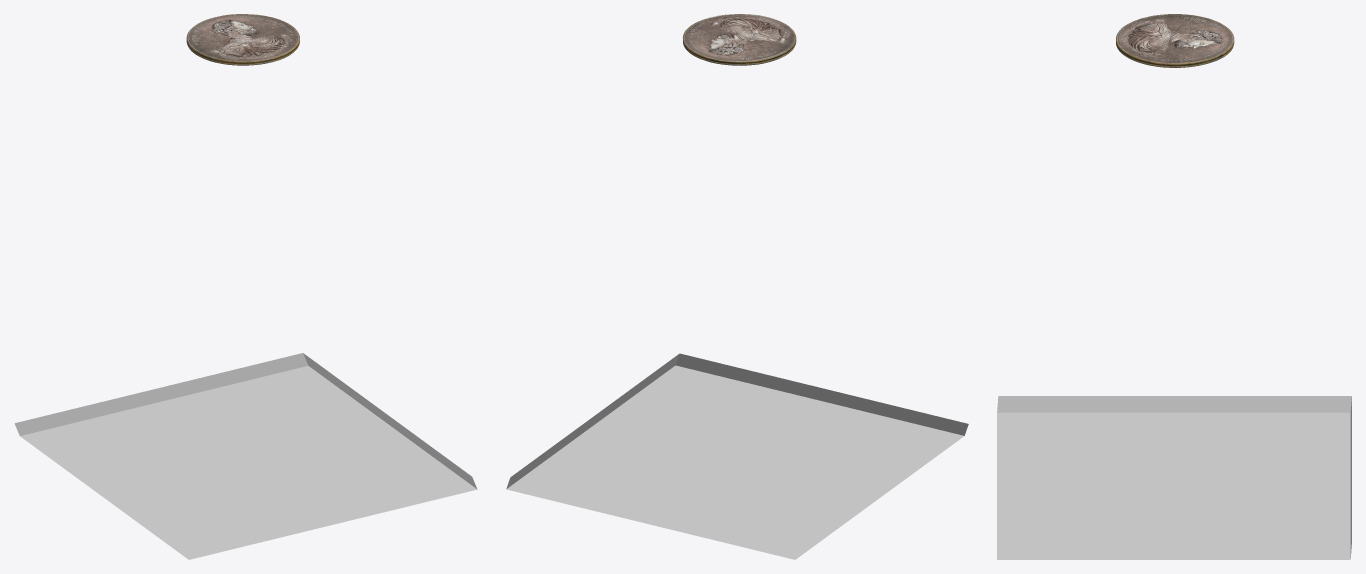
File: TossTail.gltf
3 renders of one model, left to right at view 1: azimuth 30°, elevation 25°; view 2: azimuth 150°, elevation 25°; view 3: azimuth 270°, elevation 25°, orthographic. The views are drawn at different scales.
Visible parts, largest first — view 1: Plane, Coin; view 2: Plane, Coin; view 3: Plane, Coin.
Part boxes in pixels (bbox=[...]): Plane: bbox=[14, 353, 477, 559]; Coin: bbox=[186, 14, 299, 65]; Plane: bbox=[506, 353, 968, 559]; Coin: bbox=[683, 14, 796, 65]; Plane: bbox=[997, 396, 1351, 559]; Coin: bbox=[1116, 14, 1234, 67].
Size of the model in its own units: 5.99 by 8.33 by 6.
Materials: 2 (1 with a texture image).
